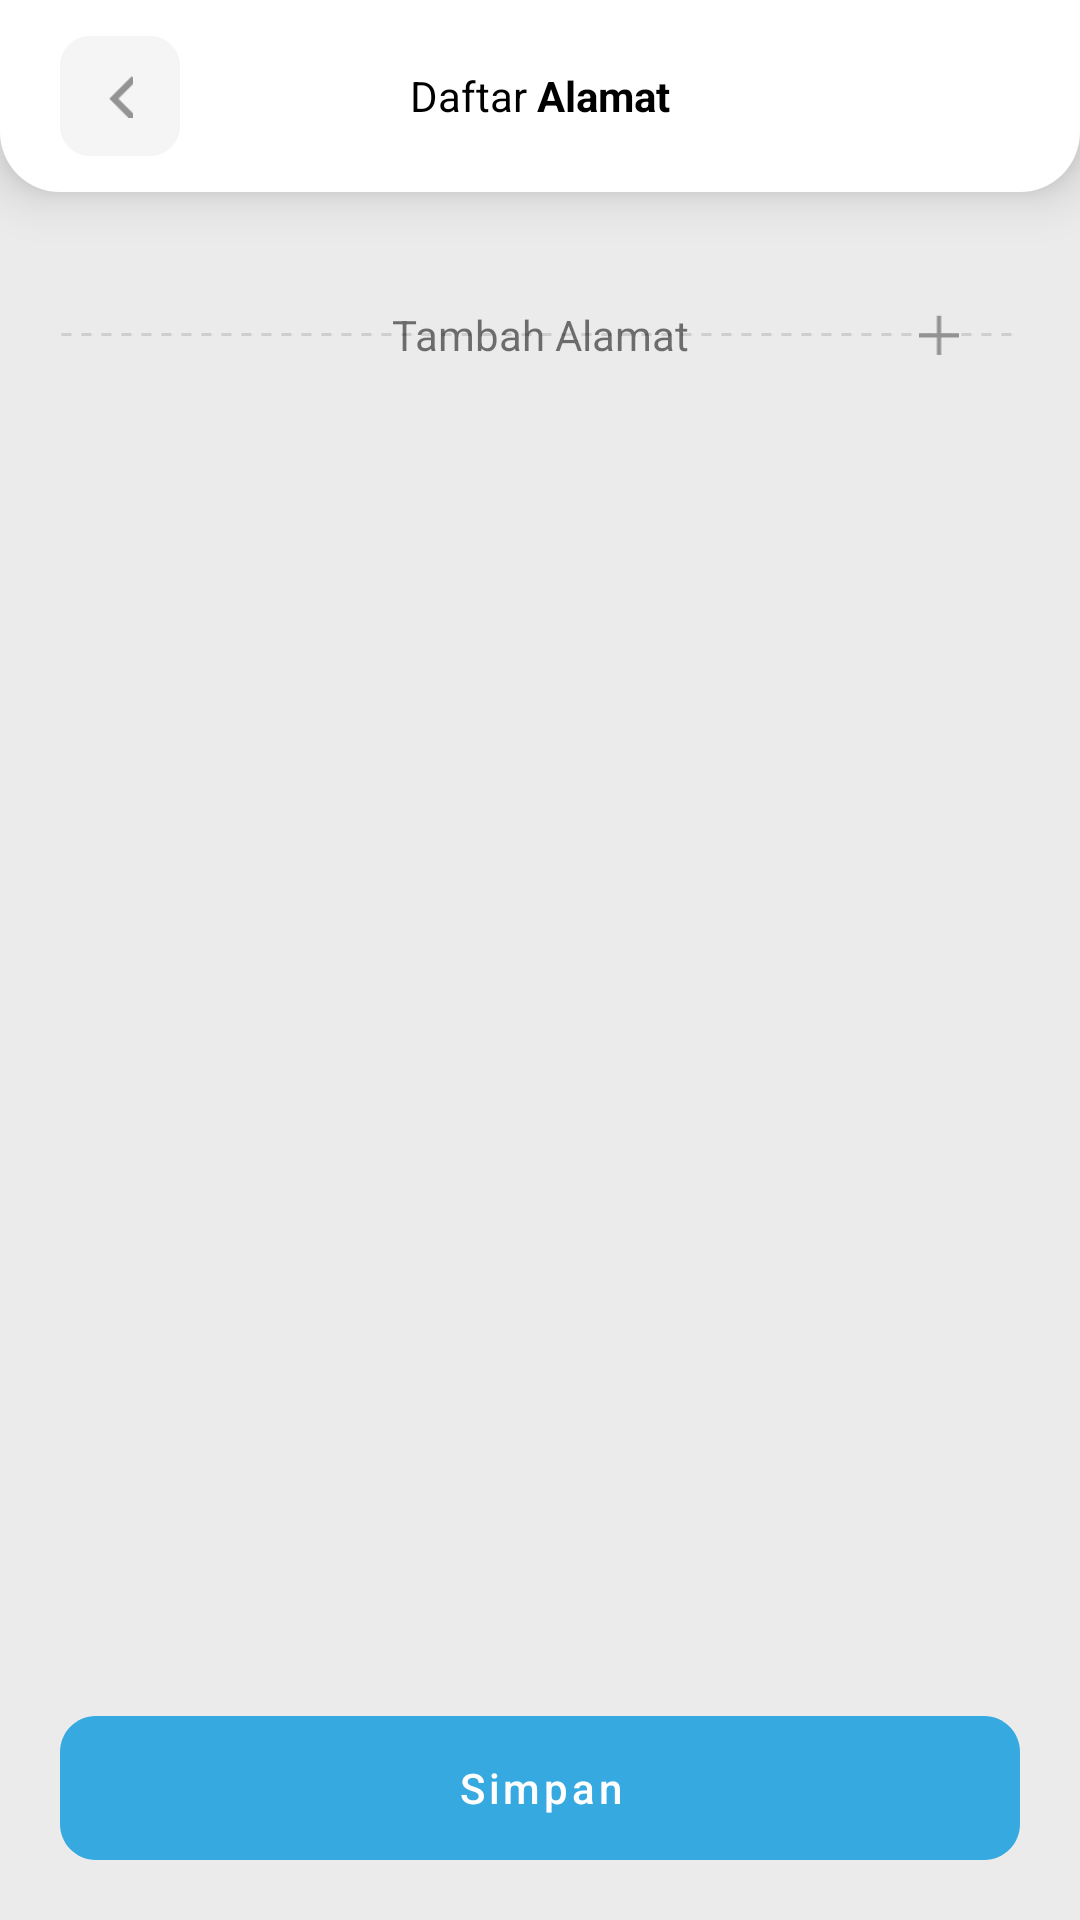

Screen size 1080×1920. Icon name, then its box in pixels as (x1, y1, x2, y2):
back: (110, 76, 133, 118)
plus: (919, 316, 959, 355)
